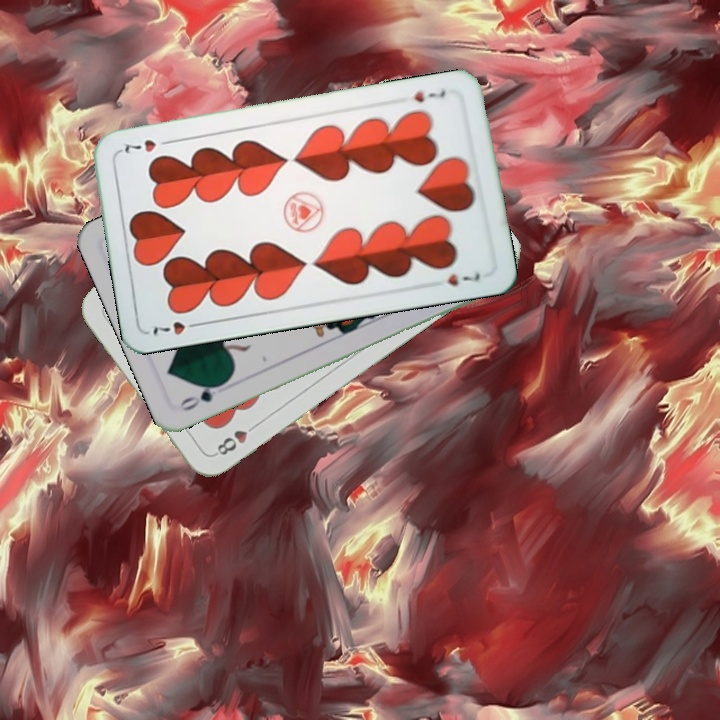GO: (175, 377, 229, 414)
H7: (147, 317, 205, 339), (410, 86, 448, 105)
H8: (210, 418, 261, 459)
